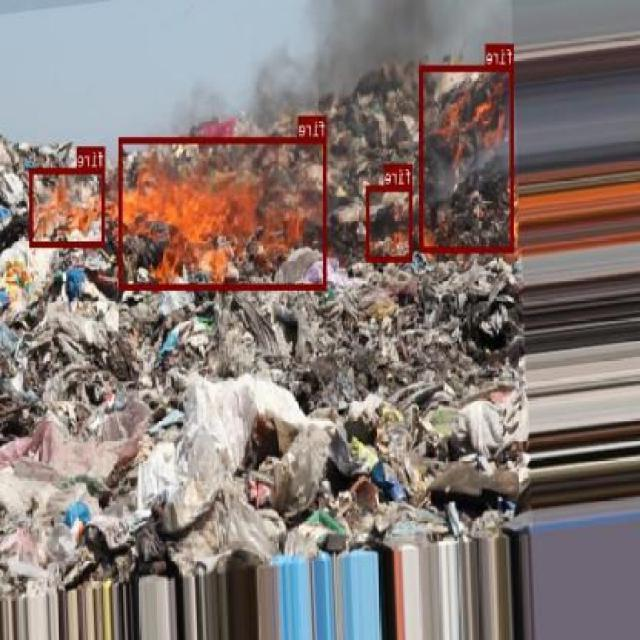Fire: (120, 136, 328, 290), (420, 65, 514, 252), (30, 168, 106, 246), (367, 184, 413, 260)
